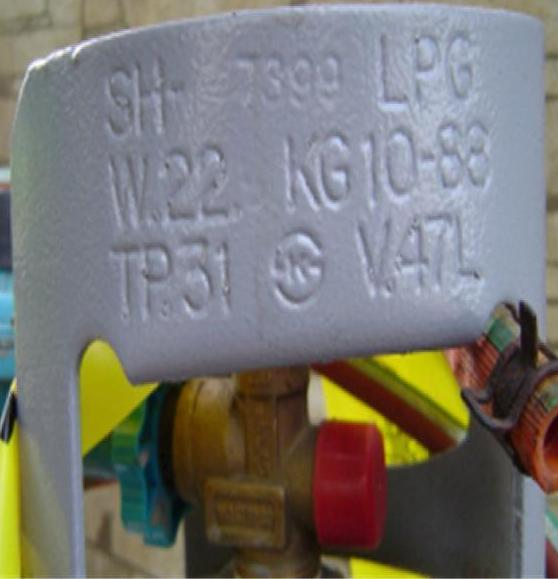cylinder: (0, 1, 558, 579)
